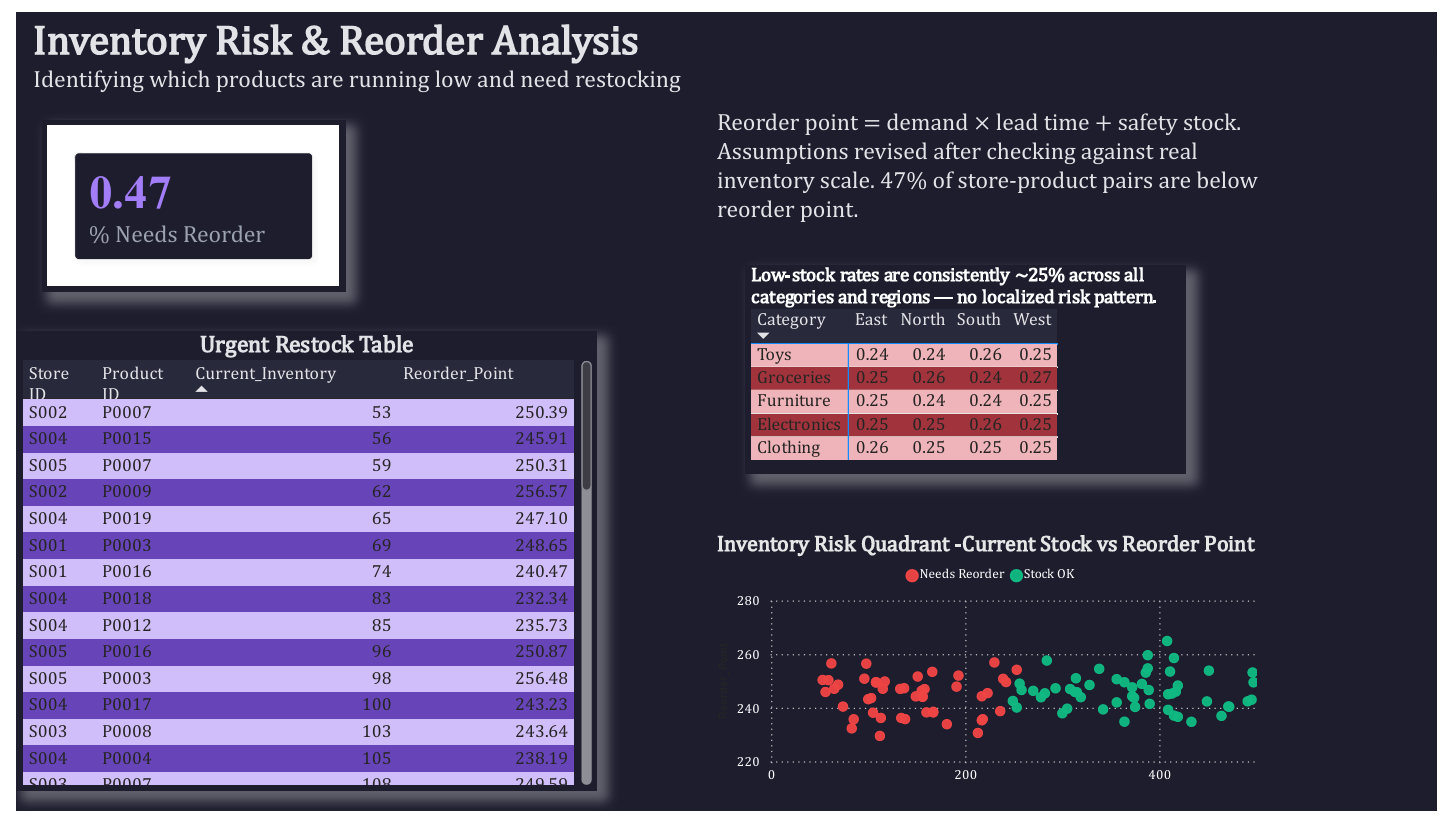

The page's visual inventory and layout, read from the dashboard file:
{"tool":"powerbi","page":{"name":"Inventory Risk","canvas":[1280,720],"ordinal":1},"visuals":[{"type":"textbox","box":[10,0,757.8,82.2],"z":0},{"type":"cardVisual","fields":{"Data":["reorder_comparison_full.% Needs Reorder"]},"box":[23.3,96.7,272.2,155.6],"z":1000},{"type":"scatterChart","title":"Inventory Risk Quadrant -Current Stock vs Reorder Point","fields":{"X":["reorder_comparison_full.Current_Inventory"],"Y":["reorder_comparison_full.Reorder_Point"],"Series":["reorder_comparison_full.Reorder Status"]},"box":[625.6,467.8,507.8,233.3],"z":2000},{"type":"tableEx","title":"Urgent Restock Table","fields":{"Values":["at_risk_products.Store ID","at_risk_products.Product ID","Sum(at_risk_products.Current_Inventory)","Sum(at_risk_products.Reorder_Point)"]},"box":[0,286.7,523.3,414.4],"z":3000},{"type":"pivotTable","title":"Low-stock rates are consistently ~25% across all categories and regions — no localized risk pattern.","fields":{"Rows":["inventory_analysis_full.Category"],"Columns":["inventory_analysis_full.Region"],"Values":["Avg(inventory_analysis_full.Low_Stock_Flag)"]},"box":[656.7,227.8,397.8,187.8],"z":4000},{"type":"textbox","box":[625.6,82.2,507.8,124.4],"z":4001}]}

Visuals, with their boxes in screenshot pixels (x1, y1, x2, y2), scaled from the page's 1280x720 canvas onto the 1450x830 screenshot:
textbox: crop(11, 0, 870, 95)
cardVisual - reorder_comparison_full.% Needs Reorder: crop(26, 111, 335, 291)
"Inventory Risk Quadrant -Current Stock vs Reorder Point" scatterChart: crop(709, 539, 1284, 808)
"Urgent Restock Table" tableEx: crop(0, 331, 593, 808)
"Low-stock rates are consistently ~25% across all categories and regions — no localized risk pattern." pivotTable: crop(744, 263, 1195, 479)
textbox: crop(709, 95, 1284, 238)
